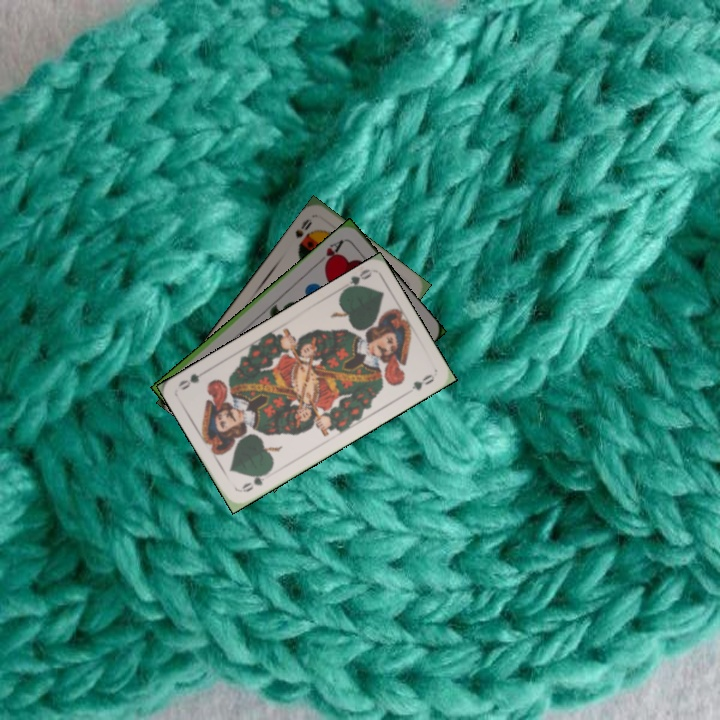GO: (338, 265, 374, 295), (237, 467, 272, 495)
HA: (320, 236, 346, 269)
SO: (291, 214, 315, 241)
